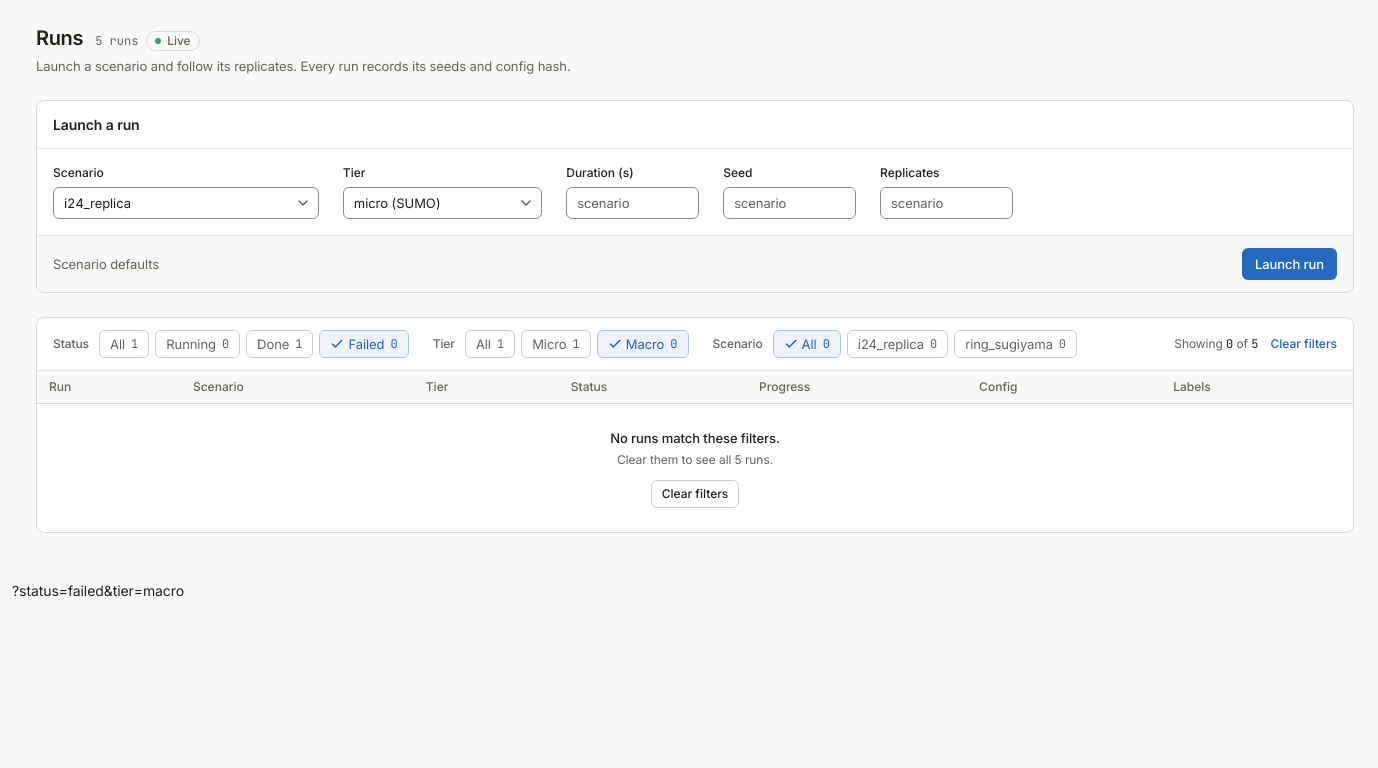
Test: RunsView filter chips › says when nothing matches and clears from there
Expected: the text "No runs match these filters." is shown, [610,428,780,448]
Expected: the text "Clear them to see all 5 runs." is shown, [617,452,773,468]
Step 1. Click the button "Clear filters" below "Clear them to see all 5 runs." → (695, 494), box [651,480,739,508]
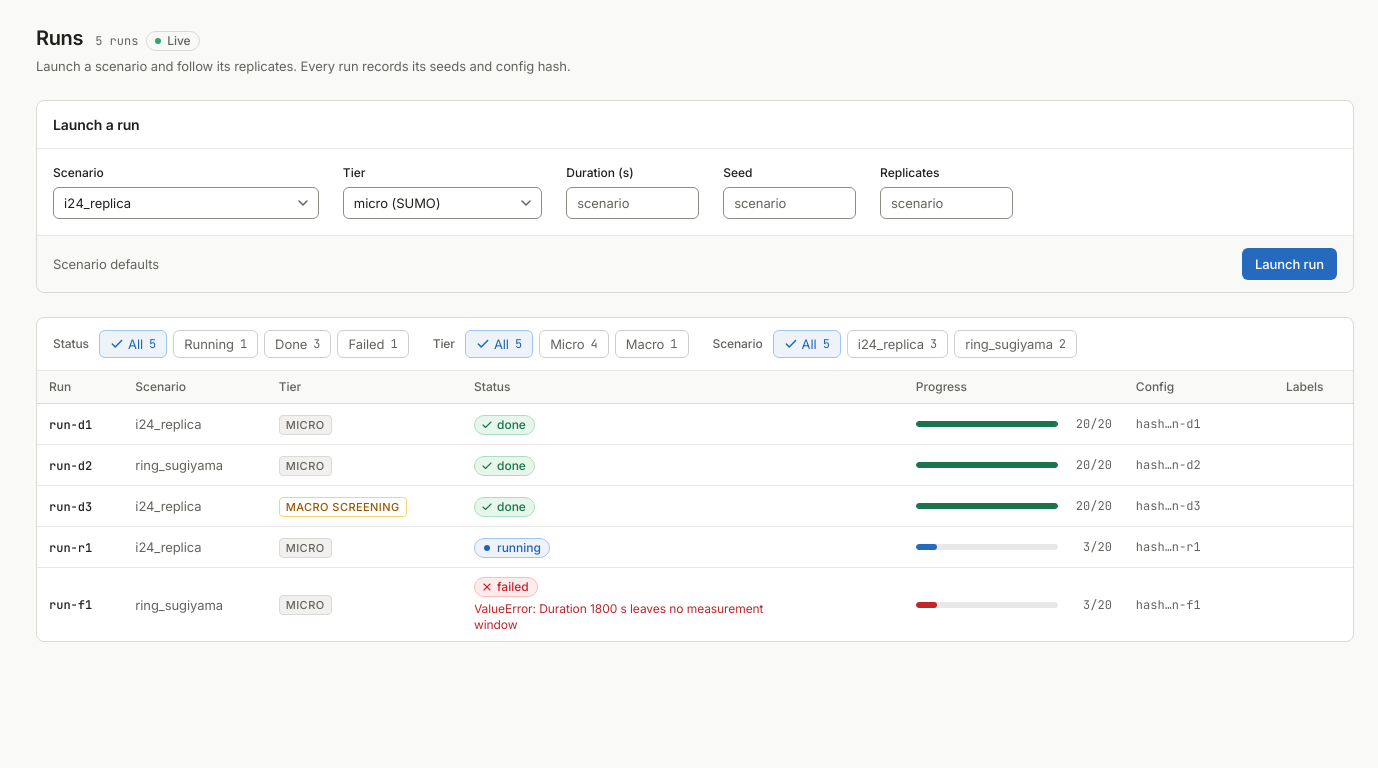
Result: the number of links is 5 at [49,416,92,432]; [49,458,92,474]; [49,498,92,514]; [49,540,92,556]; [49,597,92,613]
Result: the text "Showing" is gone
